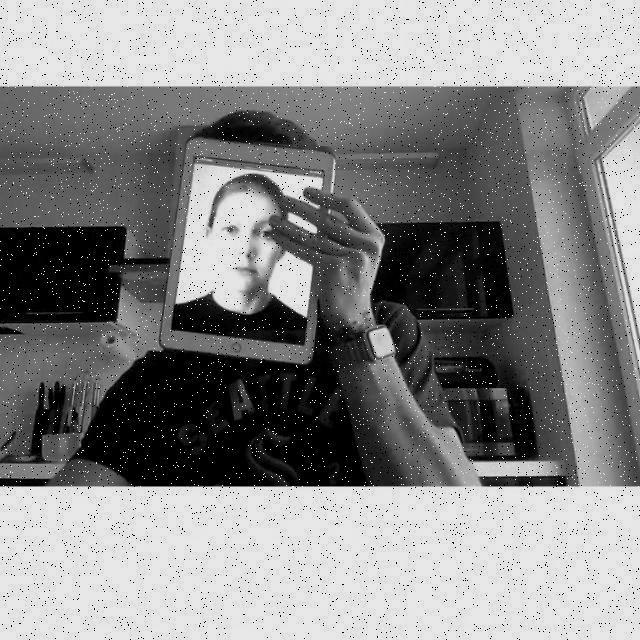fake: (158, 133, 338, 376)
